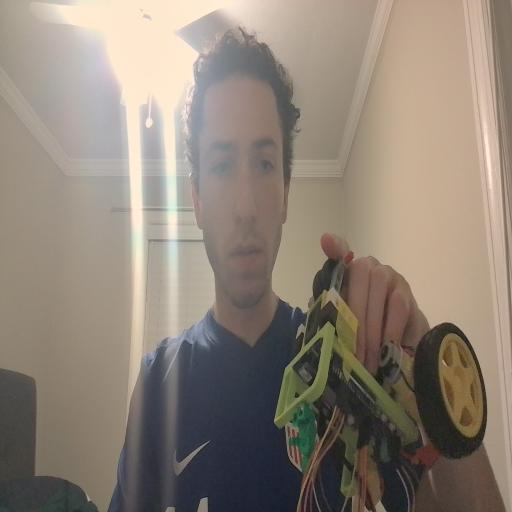green LEGO minifig: (288, 400, 321, 477)
